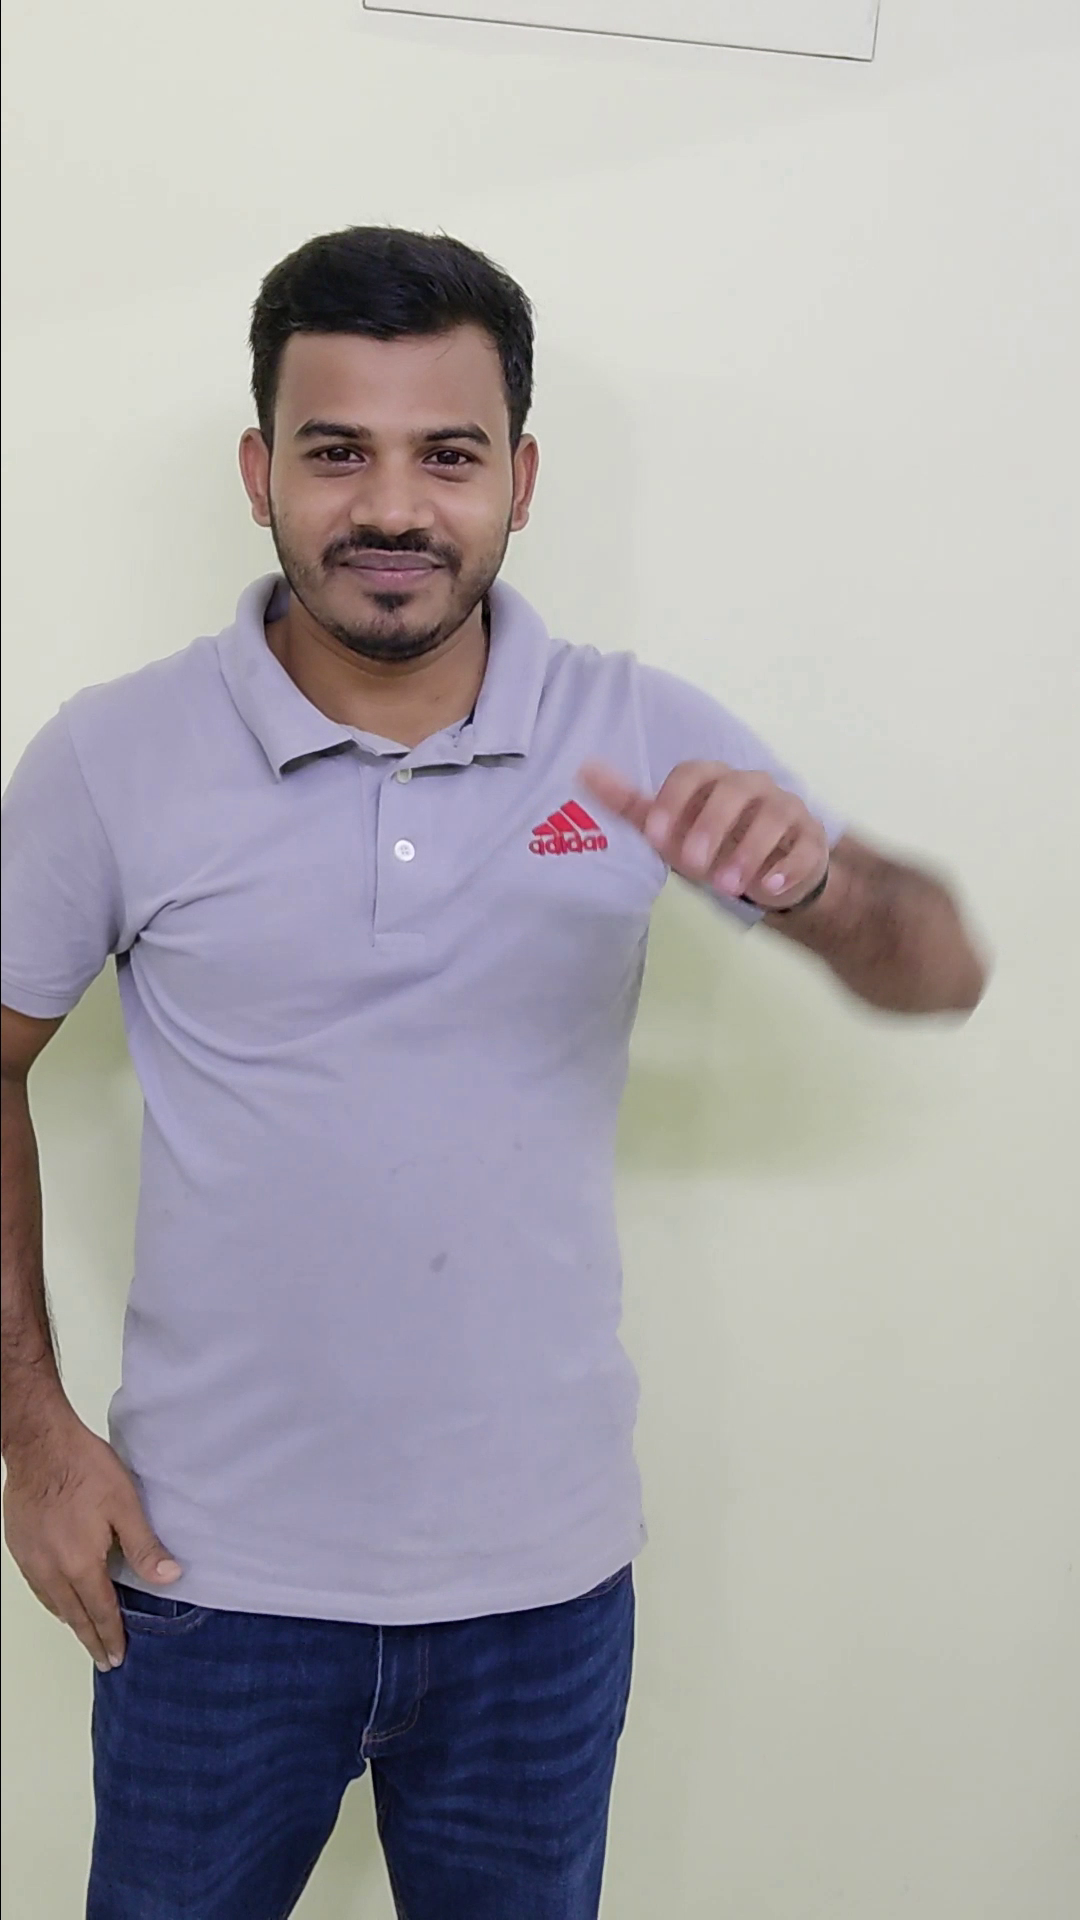Like: (556, 728, 880, 945)
None: (5, 1383, 199, 1673)
